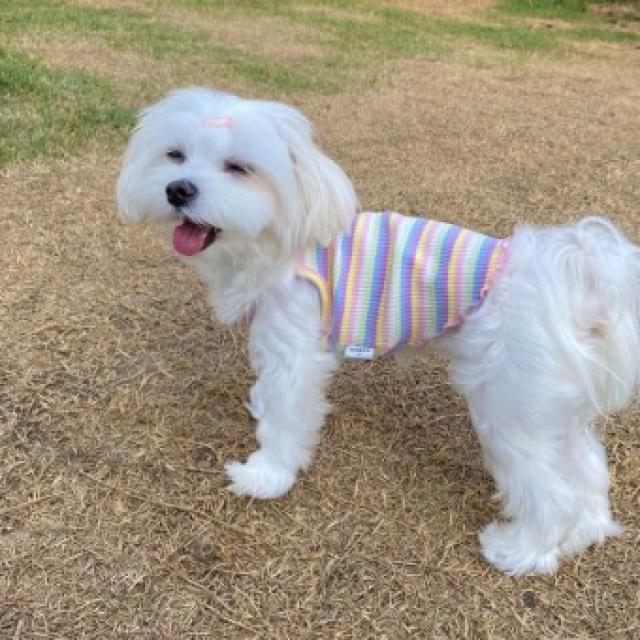cloth: (298, 211, 509, 359)
